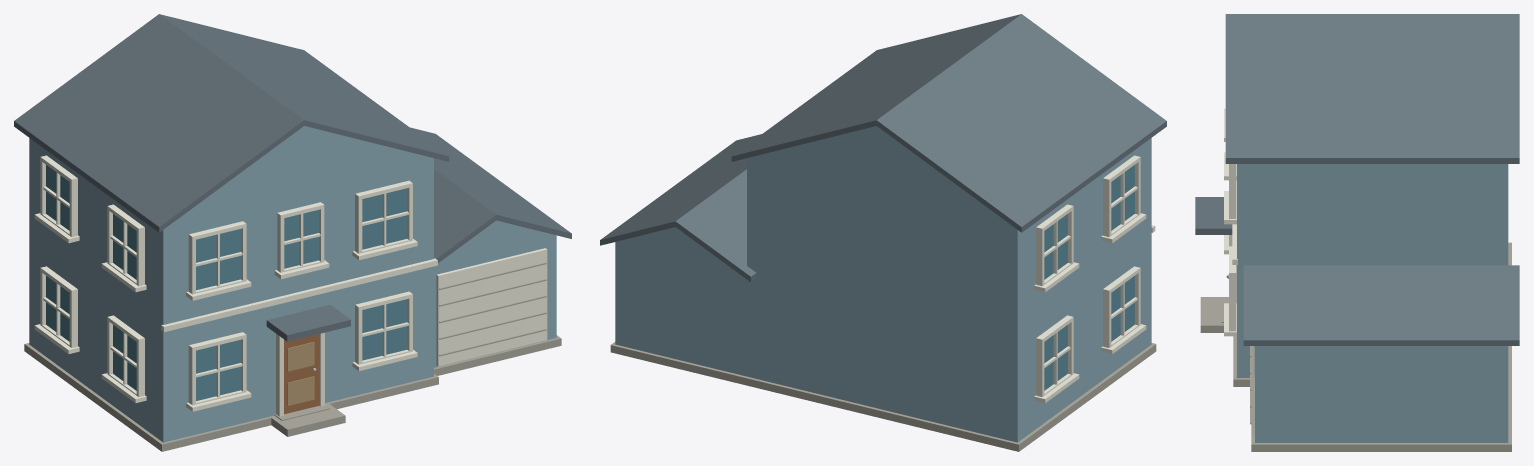
File: house_family_two_story.glb
3 views of the same model, side by side, from view 1: azimuth 30°, elevation 25°; view 2: azimuth 150°, elevation 25°; view 3: azimuth 270°, elevation 25° (orthographic).
Visible parts, largest first — view 1: Family_House_Walls, Family_House_Roof_Left_Slope, Family_House_Roof_Right_Slope, Family_Garage_Door, Family_House_Roof_Front_Gable, Family_Garage_Roof_Right_Slope, Family_House_Foundation, Family_Garage_Walls, Family_Garage_Roof_Left_Slope, Family_House_Storey_Band, Family_House_Front_Window_0_2.15_Glass, Family_House_Front_Window_1_2.15_Glass (+15 smaller); view 2: Family_House_Walls, Family_House_Roof_Left_Slope, Family_Garage_Walls, Family_House_Roof_Right_Slope, Family_House_Roof_Rear_Gable, Family_Garage_Roof_Right_Slope, Family_Garage_Roof_Left_Slope, Family_House_Foundation, Family_Garage_Foundation, Family_Garage_Roof_Rear_Gable, Family_House_Left_Window_0_-1.5_Glass, Family_House_Left_Window_0_1.5_Glass (+2 smaller); view 3: Family_House_Roof_Right_Slope, Family_House_Walls, Family_Garage_Walls, Family_Garage_Roof_Right_Slope, Family_Garage_Foundation, Family_Entry_Awning, Family_Front_Step, Family_House_Foundation, Family_House_Front_Window_0_2.15_Vertical_Frame_1, Family_House_Front_Window_1_2.15_Vertical_Frame_1, Family_Garage_Door.
Part boxes in pixels (bbox=[...]): Family_House_Walls: bbox=[29, 138, 433, 442]; Family_House_Roof_Left_Slope: bbox=[14, 14, 304, 232]; Family_House_Roof_Right_Slope: bbox=[159, 14, 449, 161]; Family_Garage_Door: bbox=[436, 248, 547, 366]; Family_House_Roof_Front_Gable: bbox=[188, 126, 419, 211]; Family_Garage_Roof_Right_Slope: bbox=[410, 127, 571, 238]; Family_House_Foundation: bbox=[24, 343, 438, 451]; Family_Garage_Walls: bbox=[434, 232, 556, 367]; Family_Garage_Roof_Left_Slope: bbox=[434, 169, 496, 263]; Family_House_Storey_Band: bbox=[161, 258, 437, 332]; Family_House_Front_Window_0_2.15_Glass: bbox=[362, 299, 407, 360]; Family_House_Front_Window_1_2.15_Glass: bbox=[362, 188, 407, 249]; Family_House_Walls: bbox=[747, 138, 1151, 442]; Family_House_Roof_Left_Slope: bbox=[876, 14, 1166, 232]; Family_Garage_Walls: bbox=[615, 238, 746, 376]; Family_House_Roof_Right_Slope: bbox=[731, 14, 1021, 161]; Family_House_Roof_Rear_Gable: bbox=[761, 126, 992, 211]; Family_Garage_Roof_Right_Slope: bbox=[600, 134, 761, 245]; Family_Garage_Roof_Left_Slope: bbox=[675, 169, 756, 282]; Family_House_Foundation: bbox=[748, 343, 1156, 451]; Family_Garage_Foundation: bbox=[610, 342, 749, 385]; Family_Garage_Roof_Rear_Gable: bbox=[629, 227, 721, 261]; Family_House_Left_Window_0_-1.5_Glass: bbox=[1111, 276, 1134, 341]; Family_House_Left_Window_0_1.5_Glass: bbox=[1044, 325, 1067, 390]; Family_House_Roof_Right_Slope: bbox=[1225, 14, 1519, 163]; Family_House_Walls: bbox=[1237, 164, 1508, 377]; Family_Garage_Walls: bbox=[1255, 346, 1508, 442]; Family_Garage_Roof_Right_Slope: bbox=[1243, 265, 1519, 345]; Family_Garage_Foundation: bbox=[1251, 379, 1511, 451]; Family_Entry_Awning: bbox=[1195, 197, 1232, 234]; Family_Front_Step: bbox=[1200, 297, 1228, 332]; Family_House_Foundation: bbox=[1233, 242, 1511, 386]; Family_House_Front_Window_0_2.15_Vertical_Frame_1: bbox=[1229, 271, 1236, 329]; Family_House_Front_Window_1_2.15_Vertical_Frame_1: bbox=[1229, 164, 1236, 218]; Family_Garage_Door: bbox=[1251, 346, 1254, 435].
Bounding box in the file's own units: 10.94 × 7.43 × 7.17.
